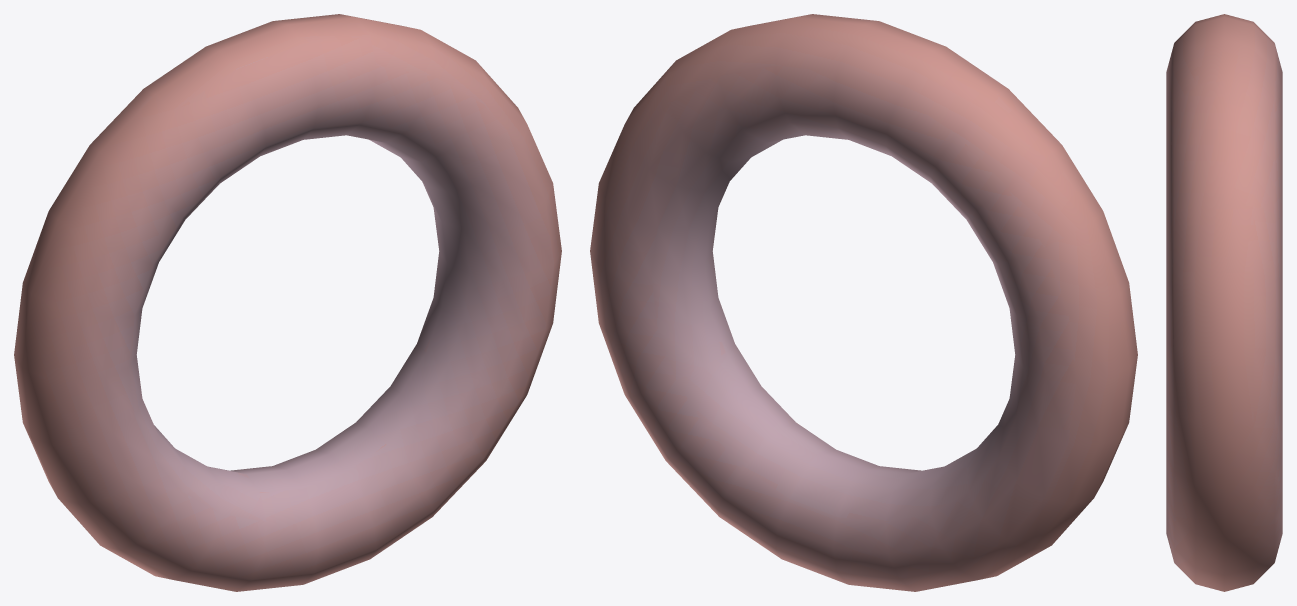
The picture shows the model from 3 angles, left to right: view 1: azimuth 30°, elevation 25°; view 2: azimuth 150°, elevation 25°; view 3: azimuth 270°, elevation 25°; orthographic projection. The views are drawn at different scales.
Parts seen in each view (by area): view 1: Torus.005; view 2: Torus.005; view 3: Torus.005.
Boxes of the visible parts, x1=… form: Torus.005: x1=14, y1=14, x2=561, y2=591; Torus.005: x1=590, y1=14, x2=1137, y2=591; Torus.005: x1=1166, y1=14, x2=1282, y2=591.
Size of the model in its own units: 0.5607 by 0.5607 by 0.1121.
1 material, 1 textured.
